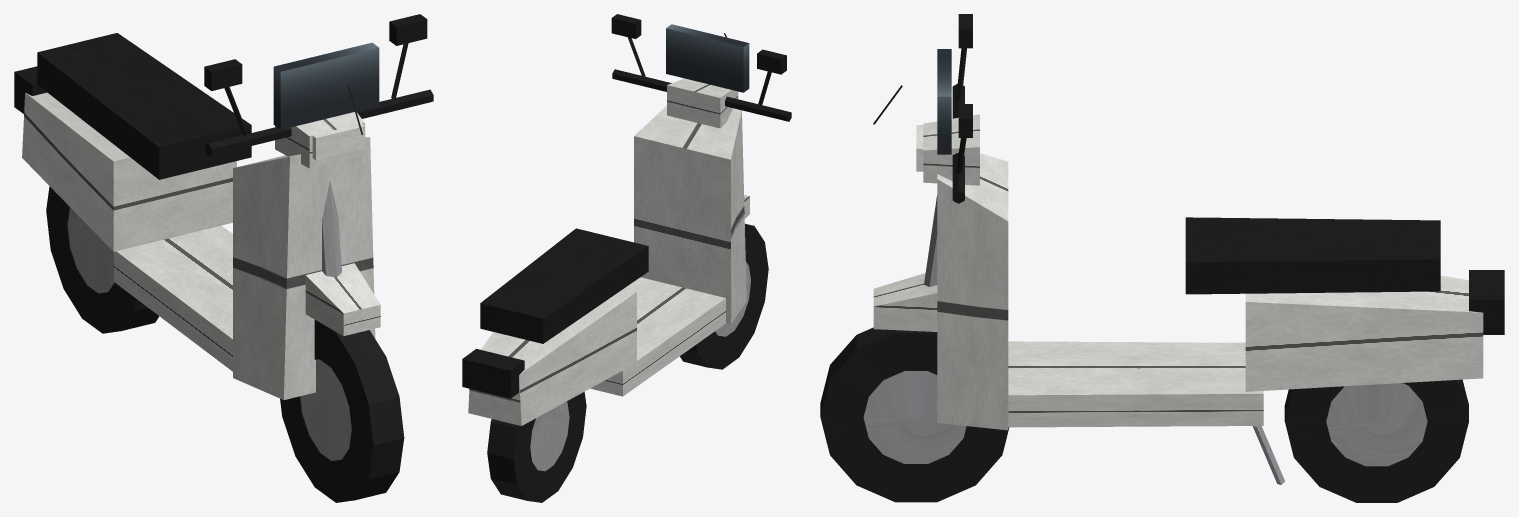
Rendered from SM_Morin_Scooter.fbx.
3 views of the same model, side by side, from view 1: azimuth 30°, elevation 25°; view 2: azimuth 150°, elevation 25°; view 3: azimuth 270°, elevation 25° (orthographic). The views are drawn at different scales.
Visible parts, largest first — view 1: SM_Morin_Scooter; view 2: SM_Morin_Scooter; view 3: SM_Morin_Scooter.
Boxes of the visible parts, x1=… form: SM_Morin_Scooter: x1=14, y1=14, x2=433, y2=502; SM_Morin_Scooter: x1=462, y1=14, x2=791, y2=502; SM_Morin_Scooter: x1=820, y1=14, x2=1504, y2=502.
Size of what is drawn, in the model's own units: 72 by 193 by 133.
Materials: 1 (1 with a texture image).
